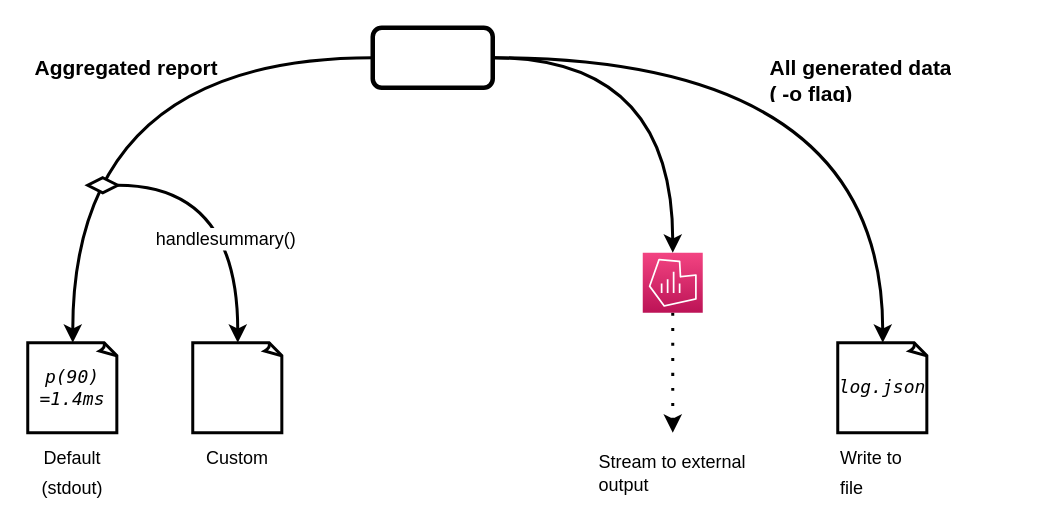
This 1058x525 diagram has some shape labels left out. The shapes that lost their labels are listed below. From the top down, each one's centre as x and y in pixels, then its label:
the point at 432,57: k6-script.js
the point at 237,387: {"custom": "value"}
